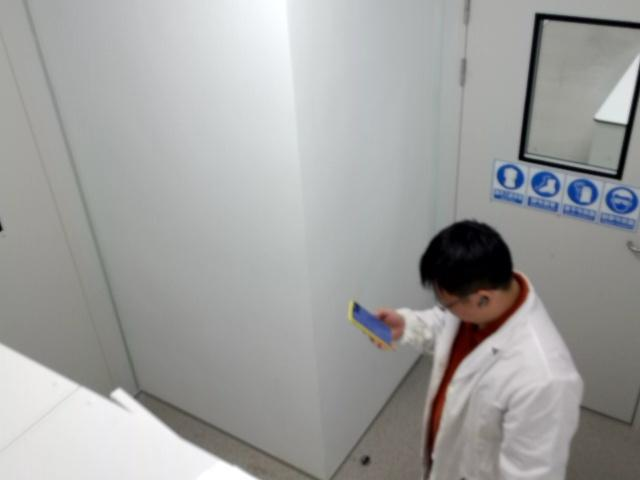Lab_coat: (376, 220, 582, 479)
